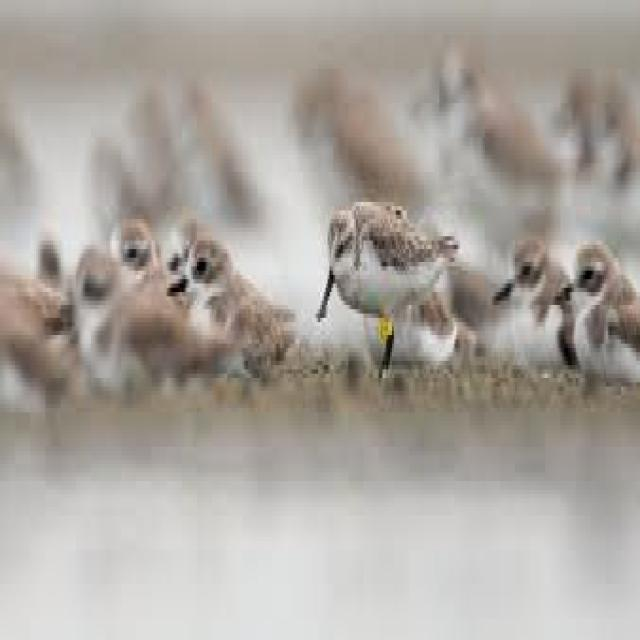Sandpiper: (315, 199, 457, 375), (167, 236, 288, 372), (553, 236, 640, 378), (494, 239, 552, 377)
